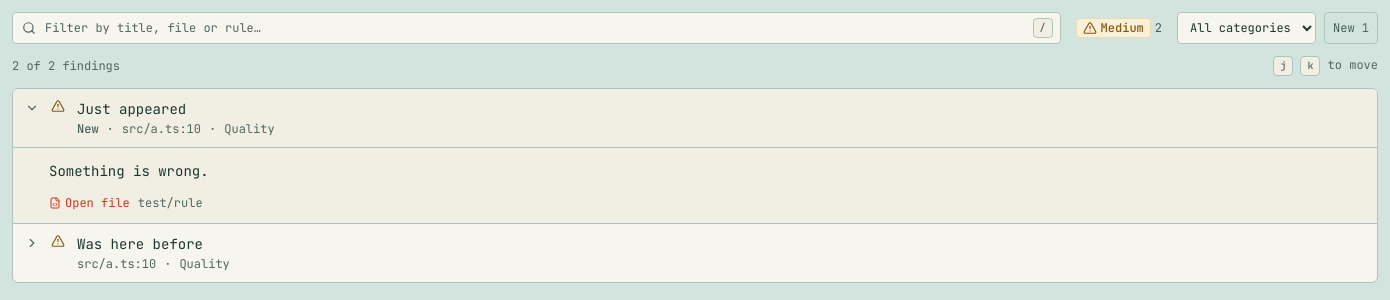
Test case: FindingsPanel › marks findings that appeared since the last analysis, and can filter to them
Expected: the text "New" is shown, x1=77 y1=121 x2=99 y2=137
Click the button "New 1" at (1351, 28), box x1=1324 y1=12 x2=1378 y2=44
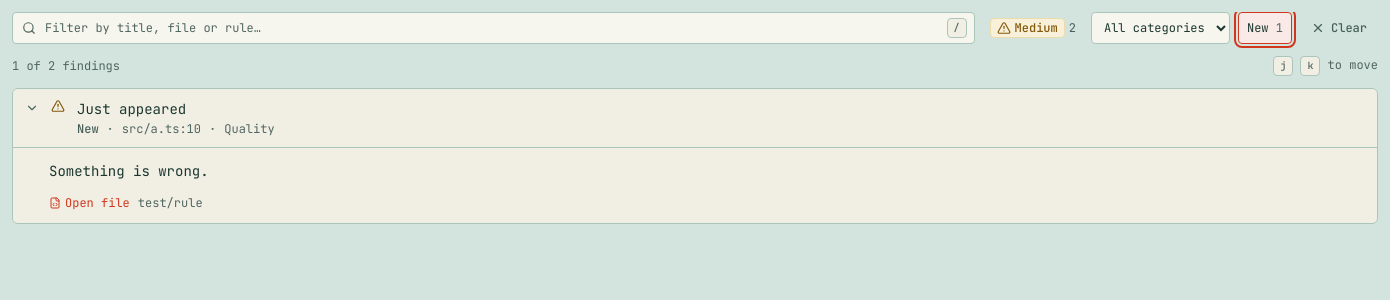
Expected: the text "Just appeared" is shown, x1=77 y1=100 x2=186 y2=118
Now the button "Was here before" is gone
